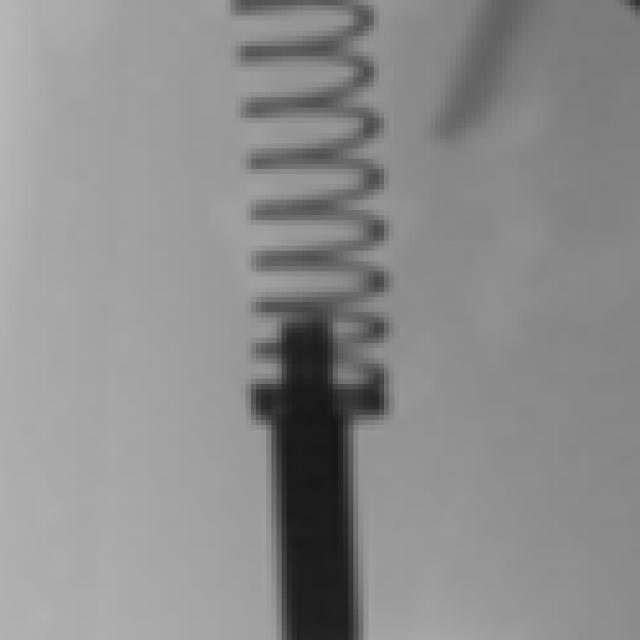GUN: (287, 309, 380, 633)
